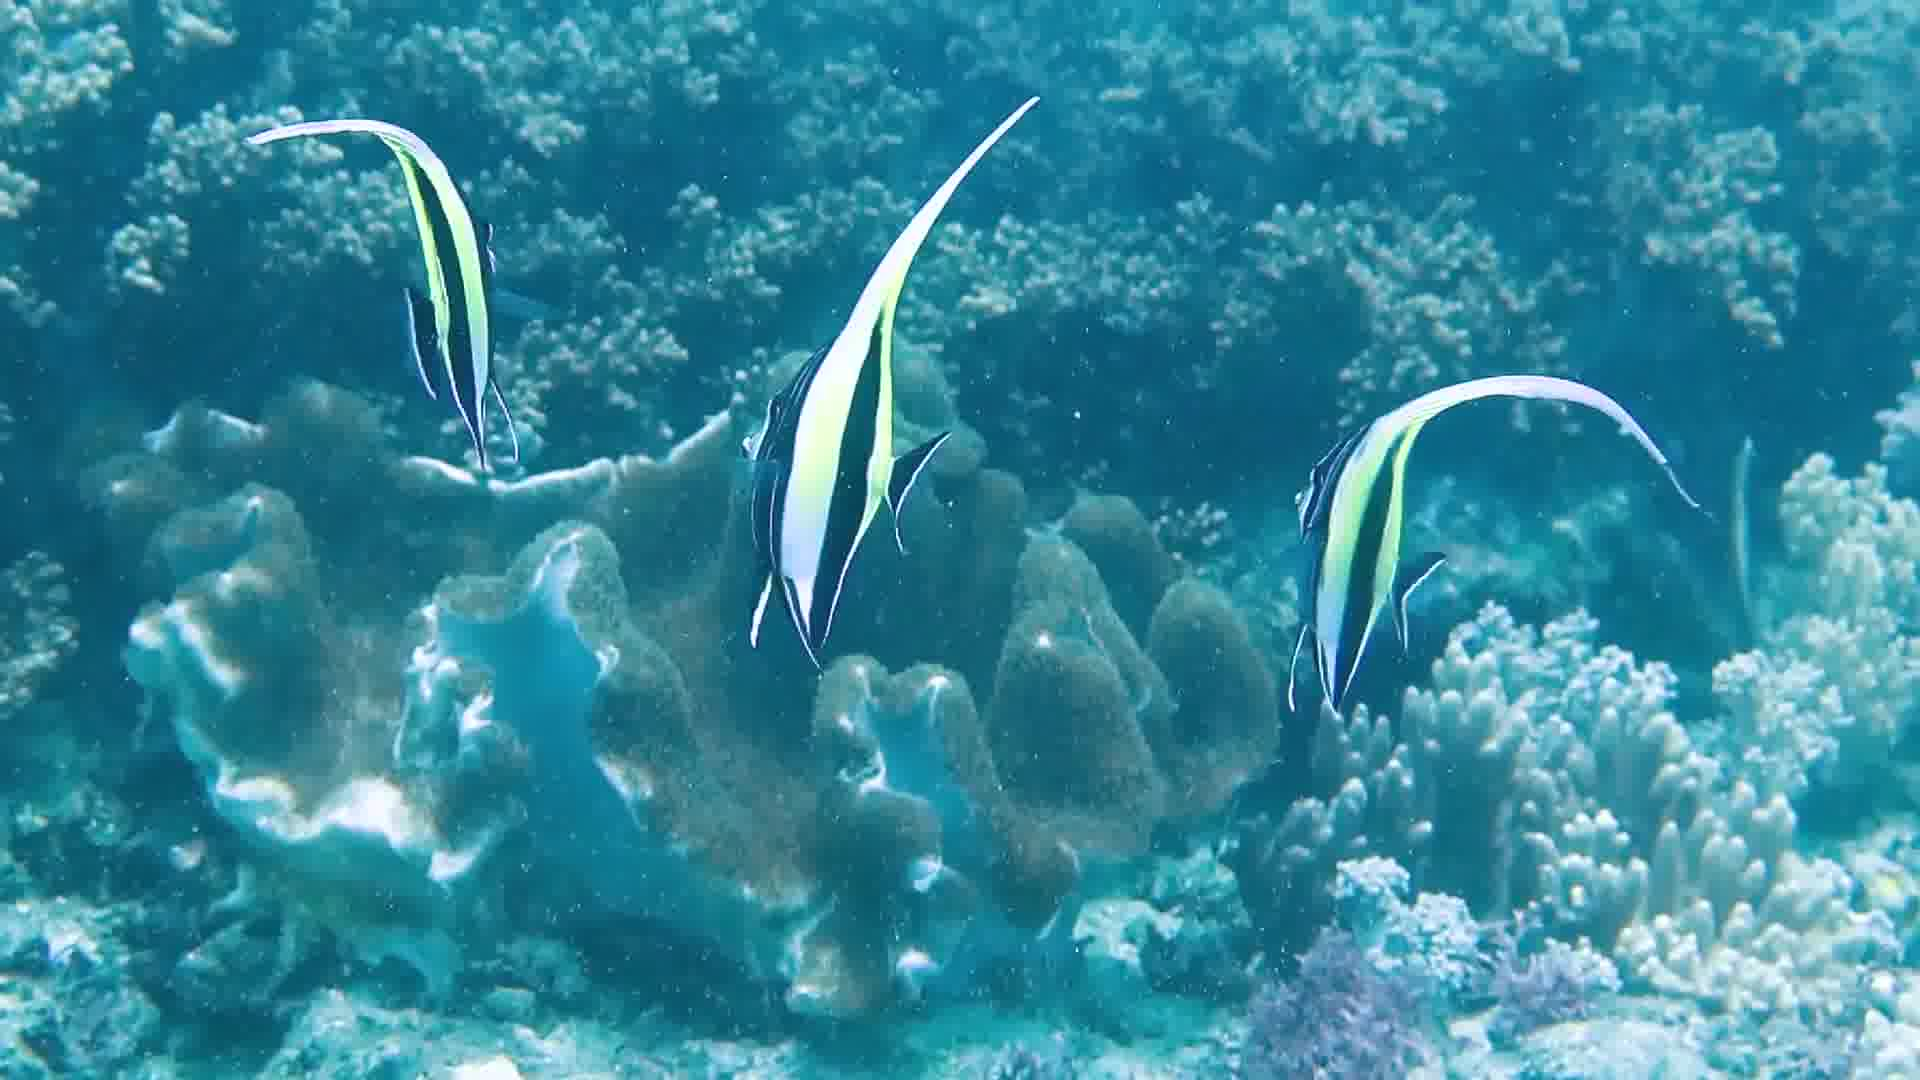Zanclus cornutus: (688, 261, 942, 646), (335, 113, 556, 462), (1265, 349, 1462, 737)
